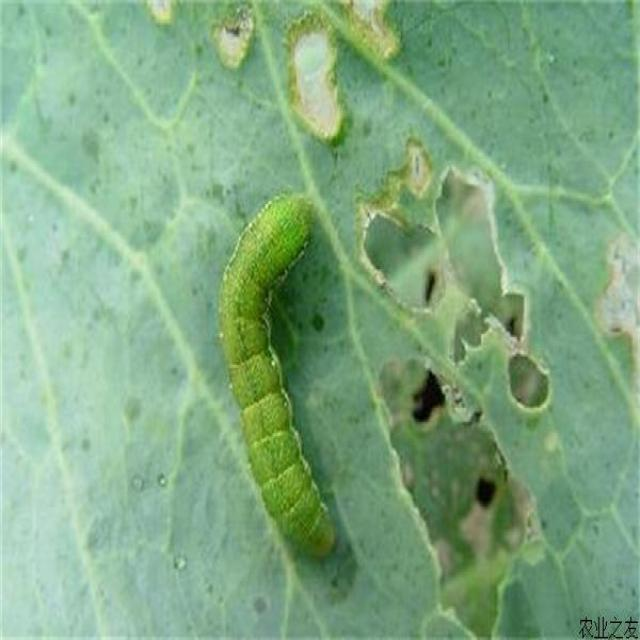BeetArmyWorm-Larva-: (212, 182, 340, 576)
